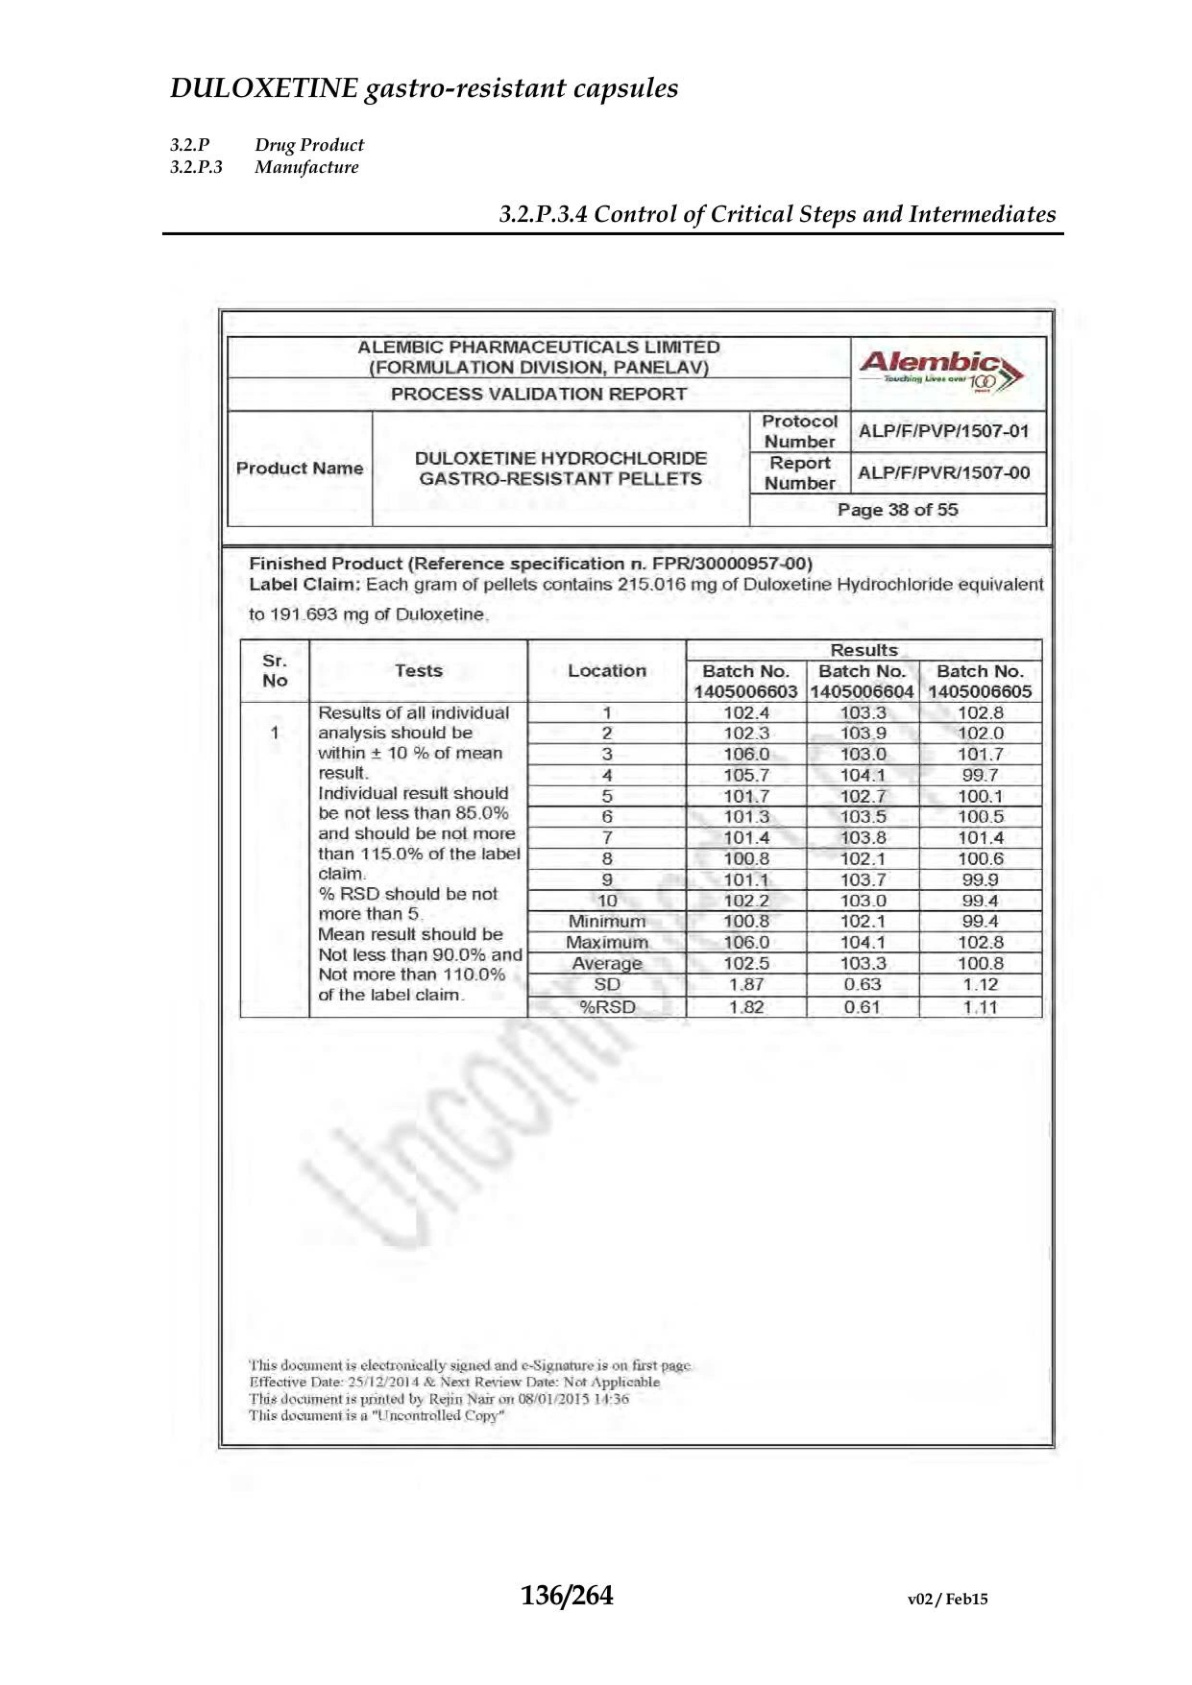merged_cells: (239, 637, 1044, 1019), (226, 335, 1049, 529)
